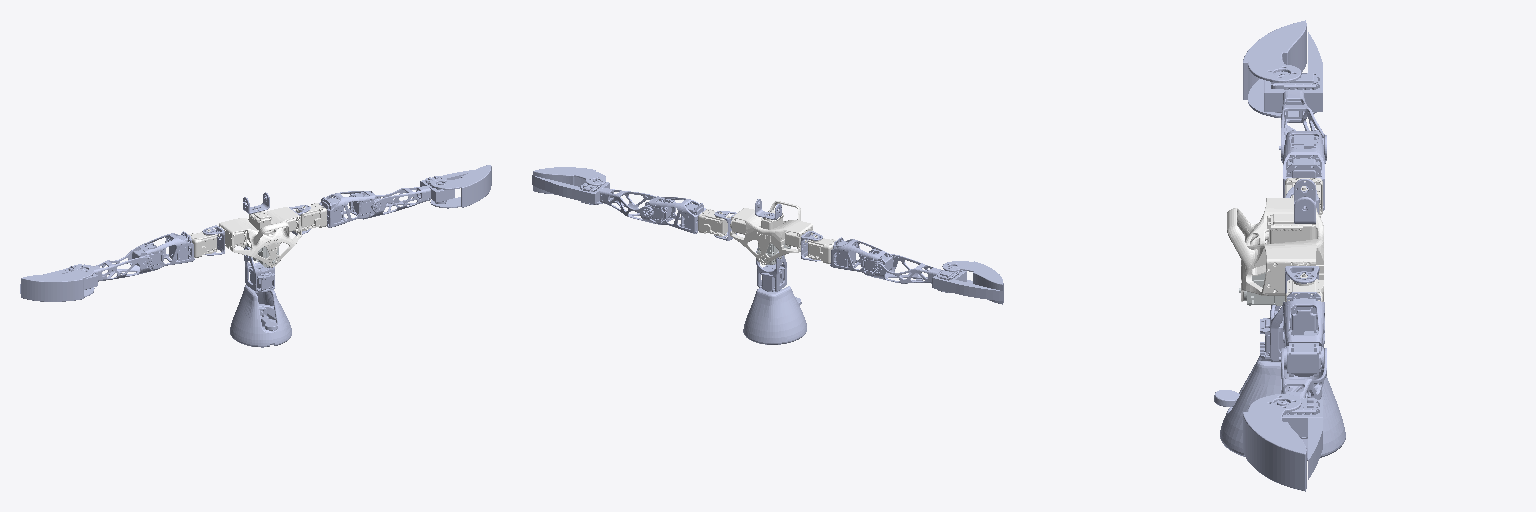
The robot description file, URDF, robot "Poppy_Torso_Gripper_Final_updated":
<robot
  name="Poppy_Torso_Gripper_Final_updated">
  <link
    name="base_link">
    <inertial>
      <origin
        xyz="-0.0021191 -0.01235 -0.069838"
        rpy="0 0 0" />
      <mass
        value="0.31973" />
      <inertia
        ixx="0.00047414"
        ixy="-4.0188E-06"
        ixz="-3.9103E-06"
        iyy="0.00045154"
        iyz="-2.2795E-05"
        izz="0.00051844" />
    </inertial>
    <visual>
      <origin
        xyz="0 0 0"
        rpy="0 0 0" />
      <geometry>
        <mesh
          filename="../meshes/base_link.STL" />
      </geometry>
      <material
        name="">
        <color
          rgba="0.79608 0.82353 0.93725 1" />
      </material>
    </visual>
    <collision>
      <origin
        xyz="0 0 0"
        rpy="0 0 0" />
      <geometry>
        <mesh
          filename="../meshes/base_link.STL" />
      </geometry>
    </collision>
  </link>
  <link
    name="spine">
    <inertial>
      <origin
        xyz="1.333E-07 -0.0095429 0.025945"
        rpy="0 0 0" />
      <mass
        value="0.065098" />
      <inertia
        ixx="3.0923E-05"
        ixy="-2.4051E-10"
        ixz="-1.0699E-09"
        iyy="2.8821E-05"
        iyz="-2.0318E-06"
        izz="2.1564E-05" />
    </inertial>
    <visual>
      <origin
        xyz="0 0 0"
        rpy="0 0 0" />
      <geometry>
        <mesh
          filename="../meshes/spine.STL" />
      </geometry>
      <material
        name="">
        <color
          rgba="0.79216 0.81961 0.93333 1" />
      </material>
    </visual>
    <collision>
      <origin
        xyz="0 0 0"
        rpy="0 0 0" />
      <geometry>
        <mesh
          filename="../meshes/spine.STL" />
      </geometry>
    </collision>
  </link>
  <joint
    name="base_joint_self_defined"
    type="revolute">
    <origin
      xyz="0 0 0"
      rpy="-1.8864E-16 -1.3878E-17 0" />
    <parent
      link="base_link" />
    <child
      link="spine" />
    <axis
      xyz="0 0 1" />
    <limit
      effort="0"
      velocity="0" />
  </joint>
  <link
    name="chest_side">
    <inertial>
      <origin
        xyz="-0.01475 -0.0097074 -0.00013703"
        rpy="0 0 0" />
      <mass
        value="0.11037" />
      <inertia
        ixx="3.0135E-05"
        ixy="-2.7791E-06"
        ixz="2.2309E-07"
        iyy="6.4336E-05"
        iyz="-6.5672E-08"
        izz="7.03E-05" />
    </inertial>
    <visual>
      <origin
        xyz="0 0 0"
        rpy="0 0 0" />
      <geometry>
        <mesh
          filename="../meshes/chest_side.STL" />
      </geometry>
      <material
        name="">
        <color
          rgba="0.8902 0.91373 0.92941 1" />
      </material>
    </visual>
    <collision>
      <origin
        xyz="0 0 0"
        rpy="0 0 0" />
      <geometry>
        <mesh
          filename="../meshes/chest_side.STL" />
      </geometry>
    </collision>
  </link>
  <joint
    name="chest_side_joint"
    type="revolute">
    <origin
      xyz="0 0.0028 0.0745"
      rpy="-1.5708 -1.8864E-16 1.5708" />
    <parent
      link="spine" />
    <child
      link="chest_side" />
    <axis
      xyz="0 0 1" />
    <limit
      effort="0"
      velocity="0" />
  </joint>
  <link
    name="chest_front">
    <inertial>
      <origin
        xyz="0.051628 -1.3986E-06 -0.012069"
        rpy="0 0 0" />
      <mass
        value="0.21242" />
      <inertia
        ixx="0.00054836"
        ixy="2.6788E-08"
        ixz="-1.7626E-06"
        iyy="0.00015279"
        iyz="-2.389E-08"
        izz="0.00048633" />
    </inertial>
    <visual>
      <origin
        xyz="0 0 0"
        rpy="0 0 0" />
      <geometry>
        <mesh
          filename="../meshes/chest_front.STL" />
      </geometry>
      <material
        name="">
        <color
          rgba="1 1 1 0.32" />
      </material>
    </visual>
    <collision>
      <origin
        xyz="0 0 0"
        rpy="0 0 0" />
      <geometry>
        <mesh
          filename="../meshes/chest_front.STL" />
      </geometry>
    </collision>
  </link>
  <joint
    name="chest_front_joint"
    type="revolute">
    <origin
      xyz="0 0 0"
      rpy="-1.5708 2.7756E-16 -1.5708" />
    <parent
      link="chest_side" />
    <child
      link="chest_front" />
    <axis
      xyz="0 0 1" />
    <limit
      effort="0"
      velocity="0" />
  </joint>
  <link
    name="left_shoulder">
    <inertial>
      <origin
        xyz="-0.0091594 -0.001817 0.0090584"
        rpy="0 0 0" />
      <mass
        value="0.0096453" />
      <inertia
        ixx="2.1053E-06"
        ixy="1.1061E-08"
        ixz="-3.3944E-08"
        iyy="4.0656E-06"
        iyz="-5.4424E-08"
        izz="3.8816E-06" />
    </inertial>
    <visual>
      <origin
        xyz="0 0 0"
        rpy="0 0 0" />
      <geometry>
        <mesh
          filename="../meshes/left_shoulder.STL" />
      </geometry>
      <material
        name="">
        <color
          rgba="0.79608 0.82353 0.93725 1" />
      </material>
    </visual>
    <collision>
      <origin
        xyz="0 0 0"
        rpy="0 0 0" />
      <geometry>
        <mesh
          filename="../meshes/left_shoulder.STL" />
      </geometry>
    </collision>
  </link>
  <joint
    name="left_shoulder_joint"
    type="revolute">
    <origin
      xyz="0.05 -0.0785 0.004"
      rpy="1.5708 4.9266E-16 -2.7756E-16" />
    <parent
      link="chest_front" />
    <child
      link="left_shoulder" />
    <axis
      xyz="0 0 1" />
    <limit
      effort="0"
      velocity="0" />
  </joint>
  <link
    name="left_shoulder2">
    <inertial>
      <origin
        xyz="-5.13E-07 0.013997 -0.0090144"
        rpy="0 0 0" />
      <mass
        value="0.056082" />
      <inertia
        ixx="2.0093E-05"
        ixy="1.5615E-10"
        ixz="-1.1504E-09"
        iyy="1.1524E-05"
        iyz="3.1077E-07"
        izz="1.693E-05" />
    </inertial>
    <visual>
      <origin
        xyz="0 0 0"
        rpy="0 0 0" />
      <geometry>
        <mesh
          filename="../meshes/left_shoulder2.STL" />
      </geometry>
      <material
        name="">
        <color
          rgba="1 1 1 0.32" />
      </material>
    </visual>
    <collision>
      <origin
        xyz="0 0 0"
        rpy="0 0 0" />
      <geometry>
        <mesh
          filename="../meshes/left_shoulder2.STL" />
      </geometry>
    </collision>
  </link>
  <joint
    name="left_shoulder2_joint"
    type="revolute">
    <origin
      xyz="0 0 0.027"
      rpy="1.5708 -1.6653E-16 1.5708" />
    <parent
      link="left_shoulder" />
    <child
      link="left_shoulder2" />
    <axis
      xyz="0 0 1" />
    <limit
      effort="0"
      velocity="0" />
  </joint>
  <link
    name="left_elbow">
    <inertial>
      <origin
        xyz="0.0001344 -0.010734 0.058098"
        rpy="0 0 0" />
      <mass
        value="0.11268" />
      <inertia
        ixx="0.0001848"
        ixy="-1.146E-08"
        ixz="-5.1799E-07"
        iyy="0.00018114"
        iyz="-2.6806E-06"
        izz="3.1436E-05" />
    </inertial>
    <visual>
      <origin
        xyz="0 0 0"
        rpy="0 0 0" />
      <geometry>
        <mesh
          filename="../meshes/left_elbow.STL" />
      </geometry>
      <material
        name="">
        <color
          rgba="0.79216 0.81961 0.93333 1" />
      </material>
    </visual>
    <collision>
      <origin
        xyz="0 0 0"
        rpy="0 0 0" />
      <geometry>
        <mesh
          filename="../meshes/left_elbow.STL" />
      </geometry>
    </collision>
  </link>
  <joint
    name="left_elbow_joint"
    type="revolute">
    <origin
      xyz="0 0.0426 -0.0185"
      rpy="-1.5708 -2.2551E-16 0" />
    <parent
      link="left_shoulder2" />
    <child
      link="left_elbow" />
    <axis
      xyz="0 0 1" />
    <limit
      effort="0"
      velocity="0" />
  </joint>
  <link
    name="left_elbow2">
    <inertial>
      <origin
        xyz="-0.0047314 -0.13471 -0.0050309"
        rpy="0 0 0" />
      <mass
        value="0.12463" />
      <inertia
        ixx="0.00039768"
        ixy="1.6633E-05"
        ixz="1.3429E-06"
        iyy="4.5267E-05"
        iyz="1.8683E-05"
        izz="0.00037494" />
    </inertial>
    <visual>
      <origin
        xyz="0 0 0"
        rpy="0 0 0" />
      <geometry>
        <mesh
          filename="../meshes/left_elbow2.STL" />
      </geometry>
      <material
        name="">
        <color
          rgba="0.79608 0.82353 0.93725 1" />
      </material>
    </visual>
    <collision>
      <origin
        xyz="0 0 0"
        rpy="0 0 0" />
      <geometry>
        <mesh
          filename="../meshes/left_elbow2.STL" />
      </geometry>
    </collision>
  </link>
  <joint
    name="left_elbow2_joint"
    type="revolute">
    <origin
      xyz="0 -0.01 0.1064"
      rpy="-1.5708 -4.4409E-16 -1.5708" />
    <parent
      link="left_elbow" />
    <child
      link="left_elbow2" />
    <axis
      xyz="0 0 1" />
    <limit
      effort="0"
      velocity="0" />
  </joint>
  <link
    name="left_wrist">
    <inertial>
      <origin
        xyz="0.066452 0.0053235 -0.018451"
        rpy="0 0 0" />
      <mass
        value="0.071598" />
      <inertia
        ixx="4.2309E-05"
        ixy="2.4235E-05"
        ixz="2.6597E-09"
        iyy="0.00010859"
        iyz="5.3397E-10"
        izz="0.00011611" />
    </inertial>
    <visual>
      <origin
        xyz="0 0 0"
        rpy="0 0 0" />
      <geometry>
        <mesh
          filename="../meshes/left_wrist.STL" />
      </geometry>
      <material
        name="">
        <color
          rgba="0.79608 0.82353 0.93725 1" />
      </material>
    </visual>
    <collision>
      <origin
        xyz="0 0 0"
        rpy="0 0 0" />
      <geometry>
        <mesh
          filename="../meshes/left_wrist.STL" />
      </geometry>
    </collision>
  </link>
  <joint
    name="left_wrist_joint"
    type="revolute">
    <origin
      xyz="0.016941 -0.141 -0.02248"
      rpy="-1.5708 1.6653E-16 -1.5708" />
    <parent
      link="left_elbow2" />
    <child
      link="left_wrist" />
    <axis
      xyz="0 0 1" />
    <limit
      effort="0"
      velocity="0" />
  </joint>
  <link
    name="right_shoulder">
    <inertial>
      <origin
        xyz="-0.0091524 -0.0018163 -0.0090584"
        rpy="0 0 0" />
      <mass
        value="0.0096454" />
      <inertia
        ixx="2.1055E-06"
        ixy="1.0201E-08"
        ixz="3.3556E-08"
        iyy="4.0651E-06"
        iyz="5.4405E-08"
        izz="3.8813E-06" />
    </inertial>
    <visual>
      <origin
        xyz="0 0 0"
        rpy="0 0 0" />
      <geometry>
        <mesh
          filename="../meshes/right_shoulder.STL" />
      </geometry>
      <material
        name="">
        <color
          rgba="0.79608 0.82353 0.93725 1" />
      </material>
    </visual>
    <collision>
      <origin
        xyz="0 0 0"
        rpy="0 0 0" />
      <geometry>
        <mesh
          filename="../meshes/right_shoulder.STL" />
      </geometry>
    </collision>
  </link>
  <joint
    name="right_shoulder_joint"
    type="revolute">
    <origin
      xyz="0.05 0.0785 0.004"
      rpy="1.5708 1.6653E-16 -2.7756E-16" />
    <parent
      link="chest_front" />
    <child
      link="right_shoulder" />
    <axis
      xyz="0 0 1" />
    <limit
      effort="0"
      velocity="0" />
  </joint>
  <link
    name="right_shoulder2">
    <inertial>
      <origin
        xyz="5.13E-07 -0.013997 -0.0090144"
        rpy="0 0 0" />
      <mass
        value="0.056082" />
      <inertia
        ixx="2.0093E-05"
        ixy="1.5615E-10"
        ixz="1.1504E-09"
        iyy="1.1524E-05"
        iyz="-3.1077E-07"
        izz="1.693E-05" />
    </inertial>
    <visual>
      <origin
        xyz="0 0 0"
        rpy="0 0 0" />
      <geometry>
        <mesh
          filename="../meshes/right_shoulder2.STL" />
      </geometry>
      <material
        name="">
        <color
          rgba="1 1 1 0.32" />
      </material>
    </visual>
    <collision>
      <origin
        xyz="0 0 0"
        rpy="0 0 0" />
      <geometry>
        <mesh
          filename="../meshes/right_shoulder2.STL" />
      </geometry>
    </collision>
  </link>
  <joint
    name="right_shoulder2_joint"
    type="revolute">
    <origin
      xyz="0 0 -0.027"
      rpy="1.5708 5.5511E-17 1.5708" />
    <parent
      link="right_shoulder" />
    <child
      link="right_shoulder2" />
    <axis
      xyz="0 0 1" />
    <limit
      effort="0"
      velocity="0" />
  </joint>
  <link
    name="right_elbow">
    <inertial>
      <origin
        xyz="0.00013405 -0.010734 -0.058098"
        rpy="0 0 0" />
      <mass
        value="0.11268" />
      <inertia
        ixx="0.0001848"
        ixy="-1.0749E-08"
        ixz="5.1811E-07"
        iyy="0.00018114"
        iyz="2.6806E-06"
        izz="3.1436E-05" />
    </inertial>
    <visual>
      <origin
        xyz="0 0 0"
        rpy="0 0 0" />
      <geometry>
        <mesh
          filename="../meshes/right_elbow.STL" />
      </geometry>
      <material
        name="">
        <color
          rgba="0.79608 0.82353 0.93725 1" />
      </material>
    </visual>
    <collision>
      <origin
        xyz="0 0 0"
        rpy="0 0 0" />
      <geometry>
        <mesh
          filename="../meshes/right_elbow.STL" />
      </geometry>
    </collision>
  </link>
  <joint
    name="right_elbow_joint"
    type="revolute">
    <origin
      xyz="0 -0.0426 -0.0185"
      rpy="-1.5708 2.2204E-16 1.9429E-16" />
    <parent
      link="right_shoulder2" />
    <child
      link="right_elbow" />
    <axis
      xyz="0 0 1" />
    <limit
      effort="0"
      velocity="0" />
  </joint>
  <link
    name="right_elbow2">
    <inertial>
      <origin
        xyz="-0.0034087 0.13471 -0.0050307"
        rpy="0 0 0" />
      <mass
        value="0.12462" />
      <inertia
        ixx="0.00039768"
        ixy="-2.1262E-05"
        ixz="7.2639E-07"
        iyy="4.5704E-05"
        iyz="-1.868E-05"
        izz="0.00037538" />
    </inertial>
    <visual>
      <origin
        xyz="0 0 0"
        rpy="0 0 0" />
      <geometry>
        <mesh
          filename="../meshes/right_elbow2.STL" />
      </geometry>
      <material
        name="">
        <color
          rgba="0.79608 0.82353 0.93725 1" />
      </material>
    </visual>
    <collision>
      <origin
        xyz="0 0 0"
        rpy="0 0 0" />
      <geometry>
        <mesh
          filename="../meshes/right_elbow2.STL" />
      </geometry>
    </collision>
  </link>
  <joint
    name="right_elbow2_joint"
    type="revolute">
    <origin
      xyz="0 -0.01 -0.1064"
      rpy="-1.5708 1.6653E-16 -1.5708" />
    <parent
      link="right_elbow" />
    <child
      link="right_elbow2" />
    <axis
      xyz="0 0 1" />
    <limit
      effort="0"
      velocity="0" />
  </joint>
  <link
    name="right_wrist">
    <inertial>
      <origin
        xyz="-0.066452 0.0053234 0.018451"
        rpy="0 0 0" />
      <mass
        value="0.071597" />
      <inertia
        ixx="4.2308E-05"
        ixy="-2.4234E-05"
        ixz="2.7298E-09"
        iyy="0.00010859"
        iyz="-4.9221E-10"
        izz="0.00011611" />
    </inertial>
    <visual>
      <origin
        xyz="0 0 0"
        rpy="0 0 0" />
      <geometry>
        <mesh
          filename="../meshes/right_wrist.STL" />
      </geometry>
      <material
        name="">
        <color
          rgba="0.79608 0.82353 0.93725 1" />
      </material>
    </visual>
    <collision>
      <origin
        xyz="0 0 0"
        rpy="0 0 0" />
      <geometry>
        <mesh
          filename="../meshes/right_wrist.STL" />
      </geometry>
    </collision>
  </link>
  <joint
    name="right_wrist_joint"
    type="revolute">
    <origin
      xyz="-0.022439 0.141 -0.02248"
      rpy="-1.5708 -2.7756E-16 -1.5708" />
    <parent
      link="right_elbow2" />
    <child
      link="right_wrist" />
    <axis
      xyz="0 0 1" />
    <limit
      effort="0"
      velocity="0" />
  </joint>
  <link
    name="neck">
    <inertial>
      <origin
        xyz="-0.0014749 -2.2974E-05 0.0093446"
        rpy="0 0 0" />
      <mass
        value="0.0067709" />
      <inertia
        ixx="8.3483E-07"
        ixy="2.3176E-10"
        ixz="1.0699E-07"
        iyy="2.9614E-06"
        iyz="1.7877E-11"
        izz="2.6869E-06" />
    </inertial>
    <visual>
      <origin
        xyz="0 0 0"
        rpy="0 0 0" />
      <geometry>
        <mesh
          filename="../meshes/neck.STL" />
      </geometry>
      <material
        name="">
        <color
          rgba="0.79608 0.82353 0.93725 1" />
      </material>
    </visual>
    <collision>
      <origin
        xyz="0 0 0"
        rpy="0 0 0" />
      <geometry>
        <mesh
          filename="../meshes/neck.STL" />
      </geometry>
    </collision>
  </link>
  <joint
    name="neck_joint"
    type="revolute">
    <origin
      xyz="0.08394 0 0.0049799"
      rpy="-1.5708 2.2204E-16 -1.5708" />
    <parent
      link="chest_front" />
    <child
      link="neck" />
    <axis
      xyz="0 0 1" />
    <limit
      effort="0"
      velocity="0" />
  </joint>
  <link
    name="head">
    <inertial>
      <origin
        xyz="-0.023514 -0.027388 -7.2524E-05"
        rpy="0 0 0" />
      <mass
        value="0.21632" />
      <inertia
        ixx="0.0004538"
        ixy="-2.2514E-05"
        ixz="-2.5444E-06"
        iyy="0.00047362"
        iyz="-3.328E-07"
        izz="0.00040168" />
    </inertial>
    <visual>
      <origin
        xyz="0 0 0"
        rpy="0 0 0" />
      <geometry>
        <mesh
          filename="../meshes/head.STL" />
      </geometry>
      <material
        name="">
        <color
          rgba="0.79608 0.82353 0.93725 1" />
      </material>
    </visual>
    <collision>
      <origin
        xyz="0 0 0"
        rpy="0 0 0" />
      <geometry>
        <mesh
          filename="../meshes/head.STL" />
      </geometry>
    </collision>
  </link>
  <joint
    name="head_link"
    type="revolute">
    <origin
      xyz="0 -2.0077E-05 0.02006"
      rpy="-1.5708 2.2072E-16 -1.5708" />
    <parent
      link="neck" />
    <child
      link="head" />
    <axis
      xyz="0 0 1" />
    <limit
      effort="0"
      velocity="0" />
  </joint>
</robot>

--- What the picture shows (computed from the rendered views, not written in the file) ---
The picture shows the robot from 3 angles, left to right: view 1: azimuth 30°, elevation 25°; view 2: azimuth 150°, elevation 25°; view 3: azimuth 270°, elevation 25°; orthographic projection.
Robot: Poppy_Torso_Gripper_Final_updated — 16 links, 15 joints (15 revolute); root link base_link; default pose: all joints at 0.
Links seen in each view (by area): view 1: chest_front, base_link, left_wrist, right_elbow2, right_wrist, right_elbow, left_elbow, left_elbow2, spine, right_shoulder2, left_shoulder2; view 2: base_link, chest_front, left_elbow2, right_elbow2, left_elbow, right_elbow, right_wrist, left_wrist, spine, right_shoulder2, left_shoulder2; view 3: chest_front, right_wrist, base_link, left_wrist, right_elbow, left_elbow2, right_elbow2, left_elbow, spine, neck, chest_side, right_shoulder.
Link boxes in pixels (bbox=[...]): chest_front: bbox=[218, 207, 301, 267]; base_link: bbox=[230, 285, 291, 347]; left_wrist: bbox=[21, 264, 94, 301]; right_elbow2: bbox=[367, 170, 473, 218]; right_wrist: bbox=[430, 165, 491, 208]; right_elbow: bbox=[319, 191, 380, 227]; left_elbow: bbox=[132, 231, 194, 270]; left_elbow2: bbox=[20, 249, 152, 293]; spine: bbox=[244, 246, 274, 291]; right_shoulder2: bbox=[295, 203, 326, 230]; left_shoulder2: bbox=[188, 229, 217, 257]; base_link: bbox=[743, 286, 806, 344]; chest_front: bbox=[730, 201, 812, 264]; left_elbow2: bbox=[873, 254, 1002, 300]; right_elbow2: bbox=[532, 175, 656, 223]; left_elbow: bbox=[830, 237, 893, 276]; right_elbow: bbox=[645, 196, 705, 233]; right_wrist: bbox=[533, 167, 605, 204]; left_wrist: bbox=[942, 261, 1003, 304]; spine: bbox=[756, 248, 786, 291]; right_shoulder2: bbox=[698, 209, 729, 236]; left_shoulder2: bbox=[807, 235, 836, 263]; chest_front: bbox=[1227, 198, 1323, 301]; right_wrist: bbox=[1243, 394, 1306, 491]; base_link: bbox=[1214, 356, 1345, 460]; left_wrist: bbox=[1243, 20, 1306, 117]; right_elbow: bbox=[1279, 292, 1324, 376]; left_elbow2: bbox=[1264, 32, 1326, 163]; right_elbow2: bbox=[1274, 348, 1326, 479]; left_elbow: bbox=[1279, 130, 1324, 210]; spine: bbox=[1260, 305, 1283, 361]; neck: bbox=[1294, 179, 1315, 223]; chest_side: bbox=[1239, 273, 1284, 305]; right_shoulder: bbox=[1285, 266, 1319, 293].
Bounding box of the posed robot: 1.04 × 0.1349 × 0.287 m (x, y, z).
Meshes: 16 distinct files referenced, 15 mesh visuals loaded (15 binary STL); not drawn: 1 (reference not matched to a file when rendering).